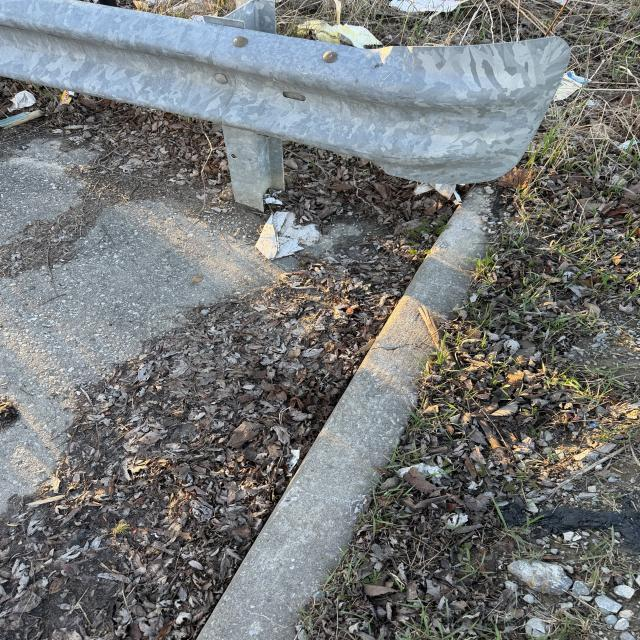Guard rail: (2, 5, 534, 190)
